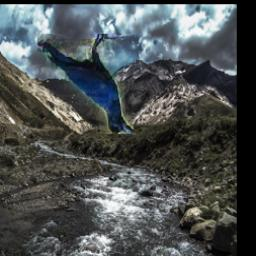Crow: (38, 35, 135, 135)
